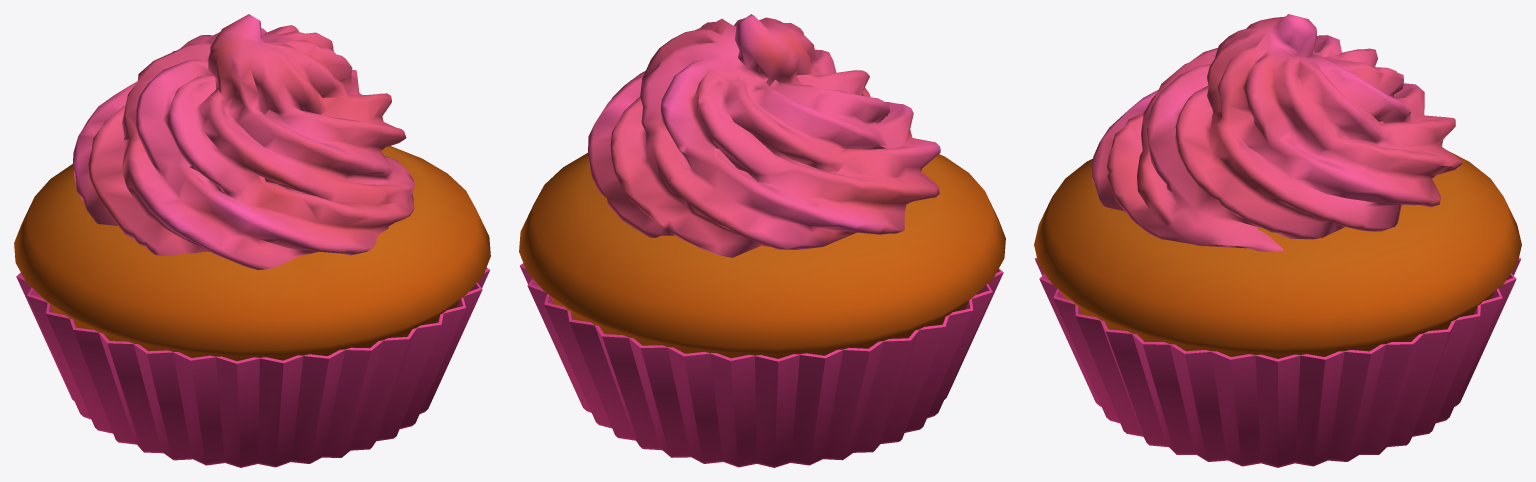
Rendered from Cupcake Tray Sort - Cake 1 (4).fbx.
3 renders of one model, left to right at view 1: azimuth 30°, elevation 25°; view 2: azimuth 150°, elevation 25°; view 3: azimuth 270°, elevation 25°, orthographic. The views are drawn at different scales.
Visible parts, largest first — view 1: 1. cake pink; view 2: 1. cake pink; view 3: 1. cake pink.
Boxes of the visible parts, x1=… form: 1. cake pink: x1=14, y1=14, x2=490, y2=467; 1. cake pink: x1=519, y1=14, x2=1005, y2=467; 1. cake pink: x1=1034, y1=14, x2=1521, y2=467.
Size of the model in its own units: 13.75 by 11.81 by 13.75.
